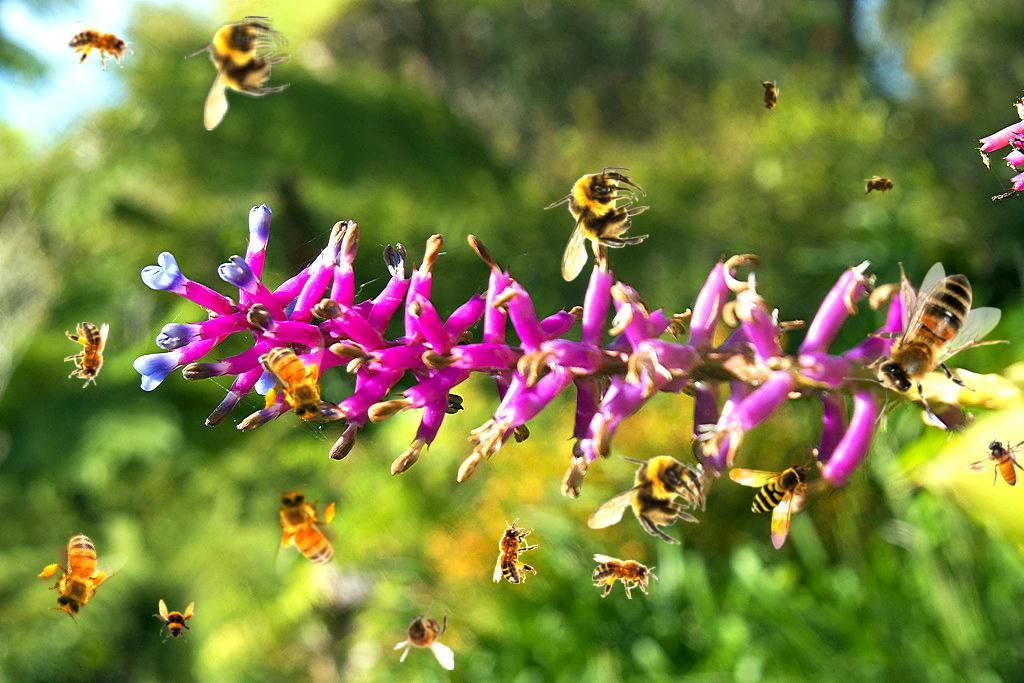Bee: (843, 262, 1010, 424), (569, 423, 726, 580), (23, 516, 135, 631), (543, 167, 650, 282), (184, 16, 291, 131), (727, 461, 811, 551), (261, 334, 329, 427), (271, 484, 339, 577), (393, 600, 454, 670), (66, 21, 138, 74), (493, 518, 538, 584), (592, 554, 658, 599), (64, 322, 109, 388), (966, 437, 1024, 487), (152, 599, 196, 643), (758, 76, 780, 116), (860, 175, 900, 197)
